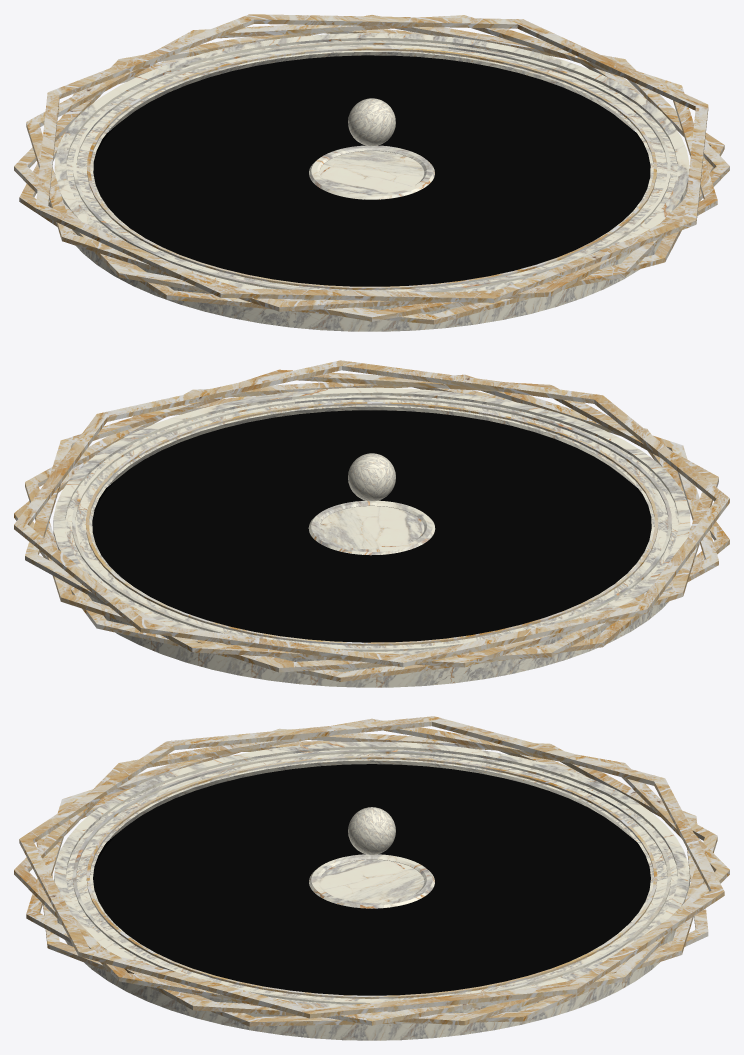
Rendered from Sky.fbx.
The picture shows the model from 3 angles, top to bottom: view 1: azimuth 30°, elevation 25°; view 2: azimuth 150°, elevation 25°; view 3: azimuth 270°, elevation 25°; orthographic projection.
Visible parts, largest first — view 1: Cylinder001, Object001, Object004, Object005, Object007, Object006, Object002, Object003, Sphere001; view 2: Cylinder001, Object001, Object004, Object005, Object007, Object006, Object002, Object003, Sphere001; view 3: Cylinder001, Object001, Object004, Object005, Object007, Object006, Object002, Object003, Sphere001.
Boxes of the visible parts, x1,y1,x2,y2 form: Cylinder001: [93, 55, 650, 286]; Object001: [14, 14, 729, 324]; Object004: [66, 40, 687, 331]; Object005: [54, 33, 689, 300]; Object007: [87, 47, 656, 289]; Object006: [73, 41, 670, 292]; Object002: [309, 151, 434, 199]; Object003: [309, 145, 434, 199]; Sphere001: [348, 98, 395, 146]; Cylinder001: [92, 410, 651, 642]; Object001: [14, 360, 729, 681]; Object004: [53, 395, 678, 687]; Object005: [53, 387, 690, 654]; Object007: [86, 402, 657, 645]; Object006: [72, 396, 671, 651]; Object002: [308, 506, 435, 554]; Object003: [309, 500, 434, 555]; Sphere001: [348, 453, 395, 501]; Cylinder001: [93, 764, 650, 995]; Object001: [14, 716, 729, 1026]; Object004: [54, 749, 689, 1040]; Object005: [54, 741, 689, 1011]; Object007: [86, 756, 657, 998]; Object006: [72, 750, 671, 1004]; Object002: [309, 859, 434, 908]; Object003: [309, 854, 434, 908]; Sphere001: [348, 807, 395, 854].
Size of the model in its own units: 1709 by 256 by 1709.
